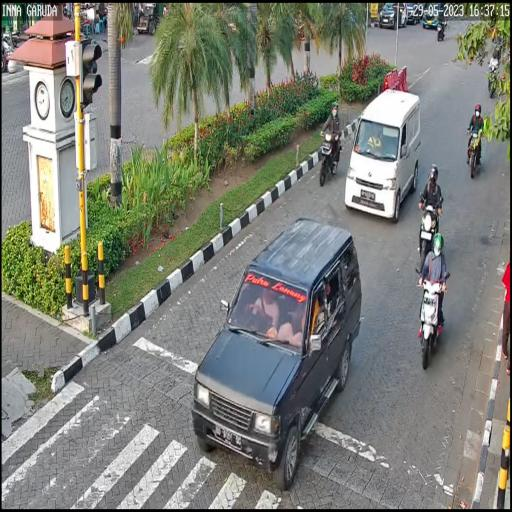mobil: (190, 218, 363, 488), (347, 92, 422, 215)
motor: (415, 267, 450, 369), (417, 188, 445, 270), (318, 126, 342, 184), (466, 127, 485, 179)
